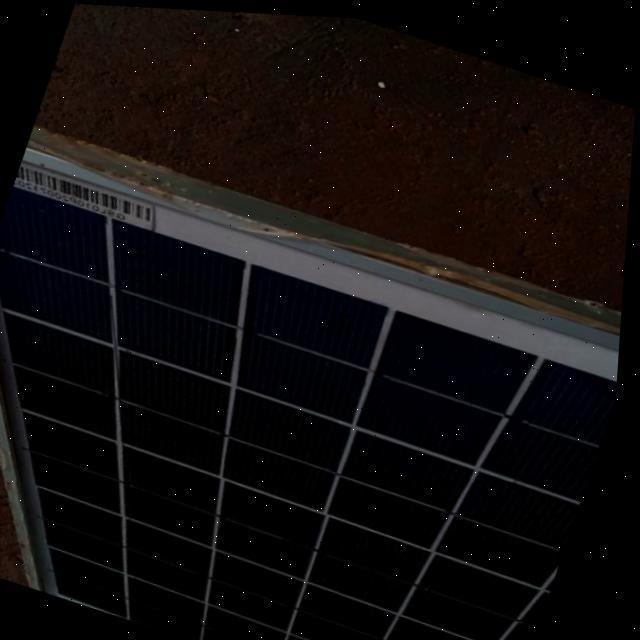Normal Solar Panel: (0, 119, 634, 640)
